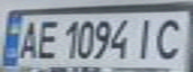0: (78, 17, 96, 60)
1: (57, 17, 81, 60)
4: (109, 16, 136, 61)
9: (93, 16, 115, 60)
A: (12, 17, 42, 61)
C: (148, 15, 190, 62)
E: (33, 17, 60, 61)
I: (130, 15, 160, 61)
